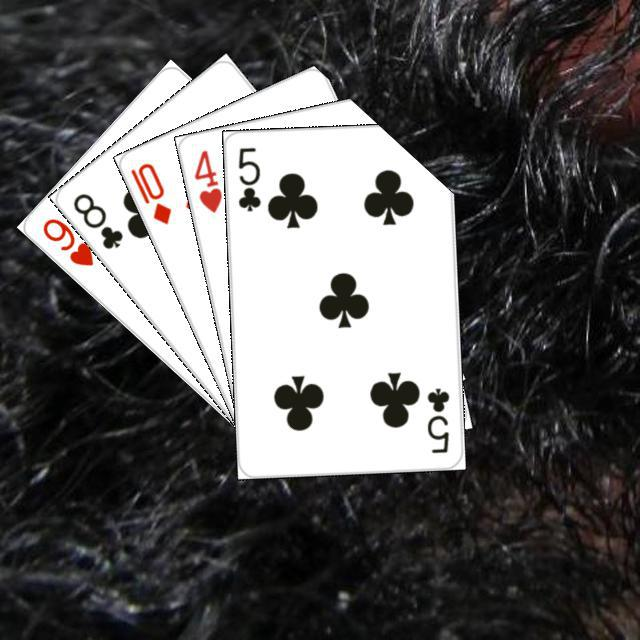10d: (125, 158, 174, 227)
4h: (189, 145, 224, 215)
5c: (233, 142, 263, 213), (422, 383, 451, 455)
8c: (68, 188, 125, 251)
9h: (37, 213, 96, 268)
